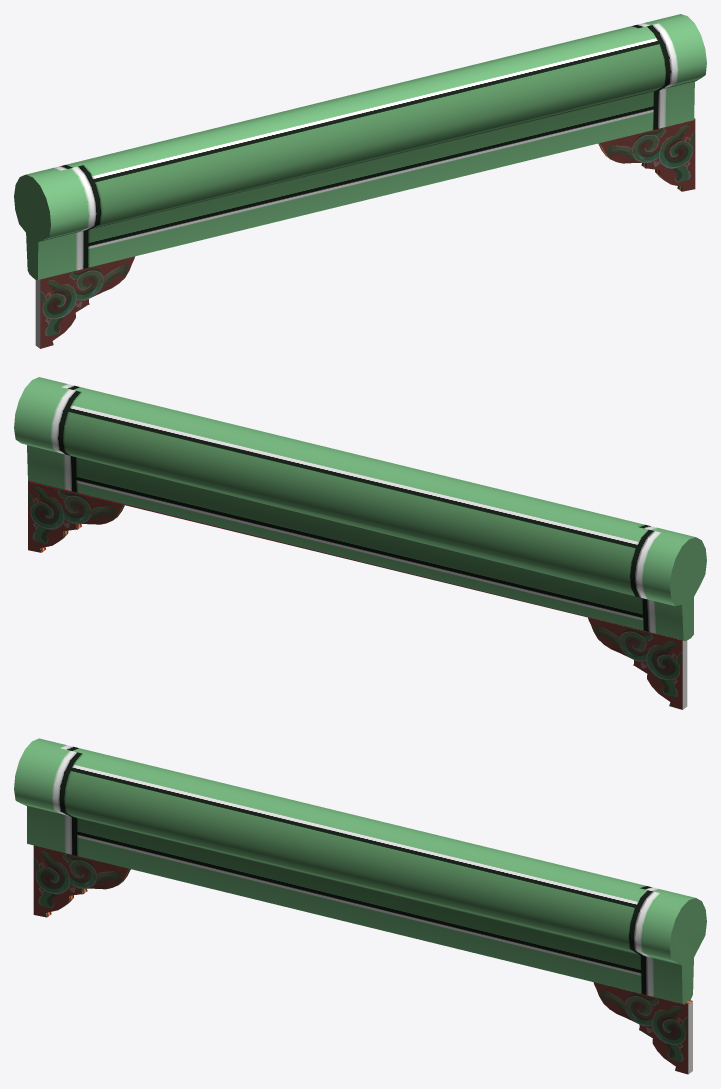
File: SM_R_Beam_8.fbx
3 views of the same model, one above another, from view 1: azimuth 30°, elevation 25°; view 2: azimuth 150°, elevation 25°; view 3: azimuth 330°, elevation 25° (orthographic).
Parts seen in each view (by area): view 1: SM_R_Beam_8_LOD0; view 2: SM_R_Beam_8_LOD0; view 3: SM_R_Beam_8_LOD0.
Part boxes in pixels (x1,y1,x2,y2): SM_R_Beam_8_LOD0: (14, 14, 706, 348); SM_R_Beam_8_LOD0: (14, 377, 706, 709); SM_R_Beam_8_LOD0: (14, 738, 706, 1074).
Bounding box in the file's own units: 353 × 34.68 × 87.4.
